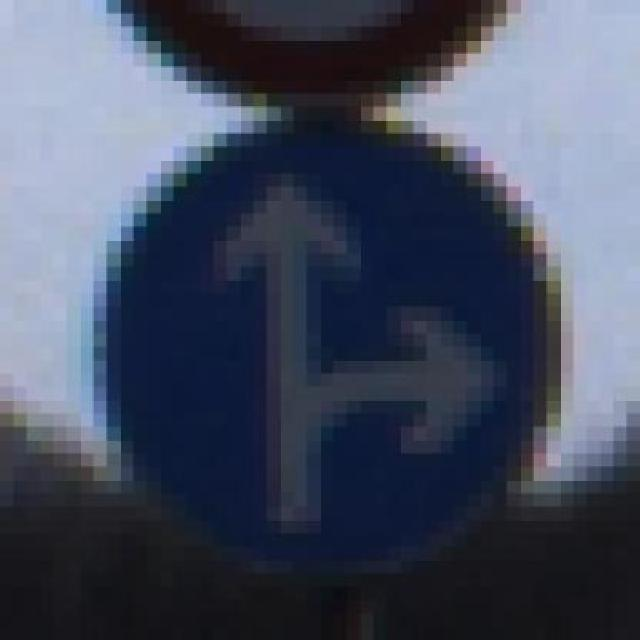Go Straight or Turn Right: (66, 119, 574, 587)
